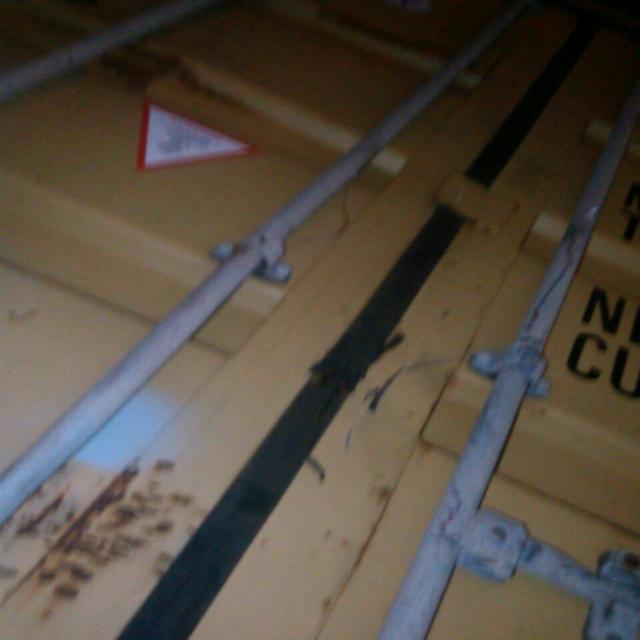rust: (1, 455, 204, 628)
